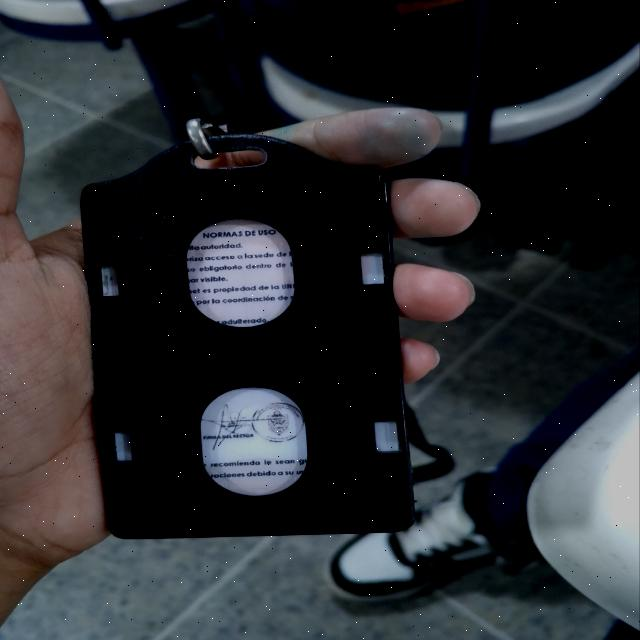carnet: (80, 165, 417, 540)
